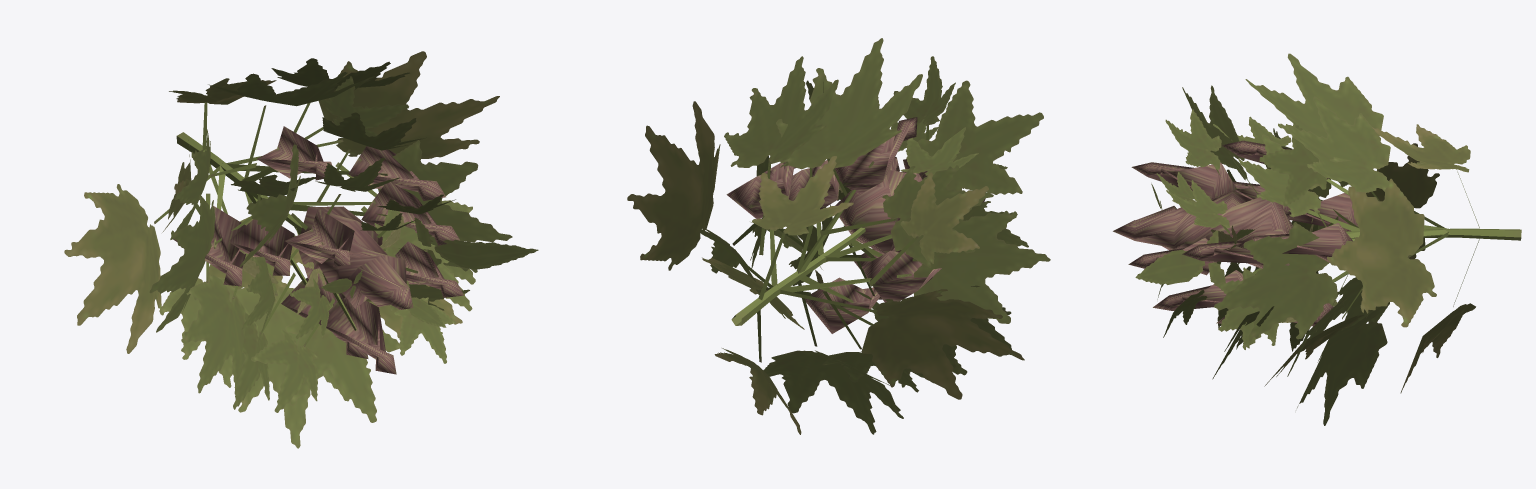
File: p_purple_kush_ripe_c1_cards.obj
The picture shows the model from 3 angles, left to right: view 1: azimuth 30°, elevation 25°; view 2: azimuth 150°, elevation 25°; view 3: azimuth 270°, elevation 25°; orthographic projection. The views are drawn at different scales.
Size of the model in its own units: 1.72 by 1.47 by 1.35.
Materials: 1 (1 with a texture image).
